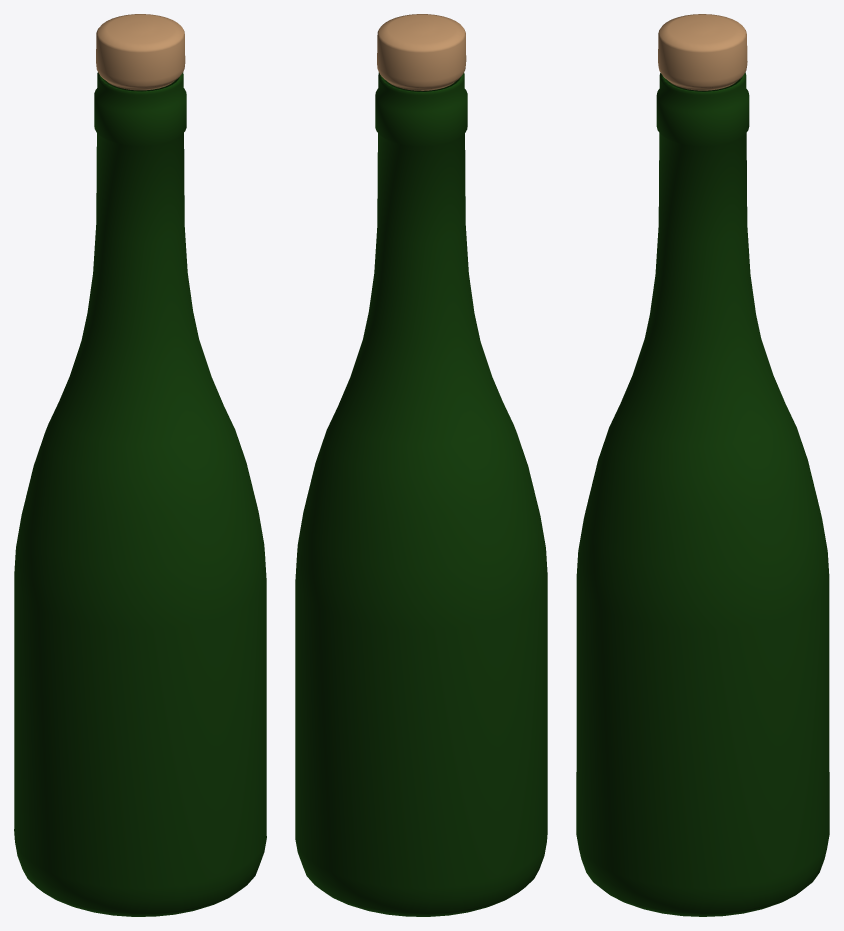
The model's file is Wine_Bottle_Red.fbx.
3 views of the same model, side by side, from view 1: azimuth 30°, elevation 25°; view 2: azimuth 150°, elevation 25°; view 3: azimuth 270°, elevation 25° (orthographic).
Parts seen in each view (by area): view 1: Wine_Bottle_Red, Wine_Bottle_Red_Cork; view 2: Wine_Bottle_Red, Wine_Bottle_Red_Cork; view 3: Wine_Bottle_Red, Wine_Bottle_Red_Cork.
Part boxes in pixels (x1,y1,x2,y2): Wine_Bottle_Red: (14,72,266,916); Wine_Bottle_Red_Cork: (96,14,185,90); Wine_Bottle_Red: (295,72,547,916); Wine_Bottle_Red_Cork: (377,14,466,90); Wine_Bottle_Red: (576,72,829,916); Wine_Bottle_Red_Cork: (658,14,747,90).
Bounding box in the file's own units: 8.62 × 31.75 × 8.62.
